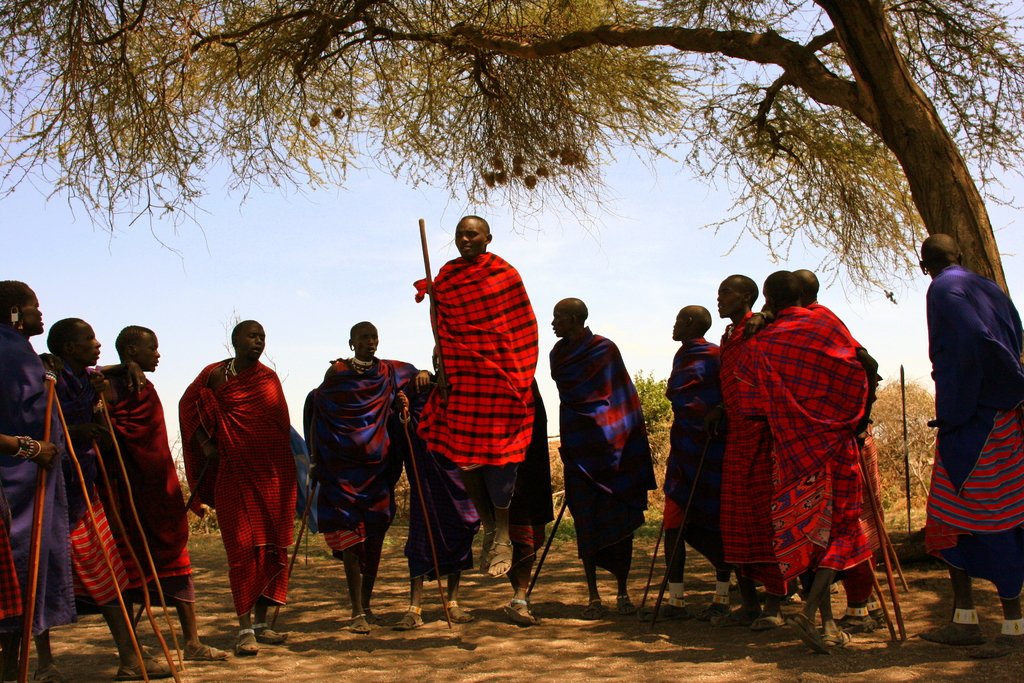Person: (0, 215, 1024, 682)
